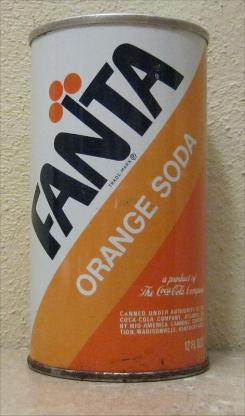Can: (27, 13, 211, 385)
